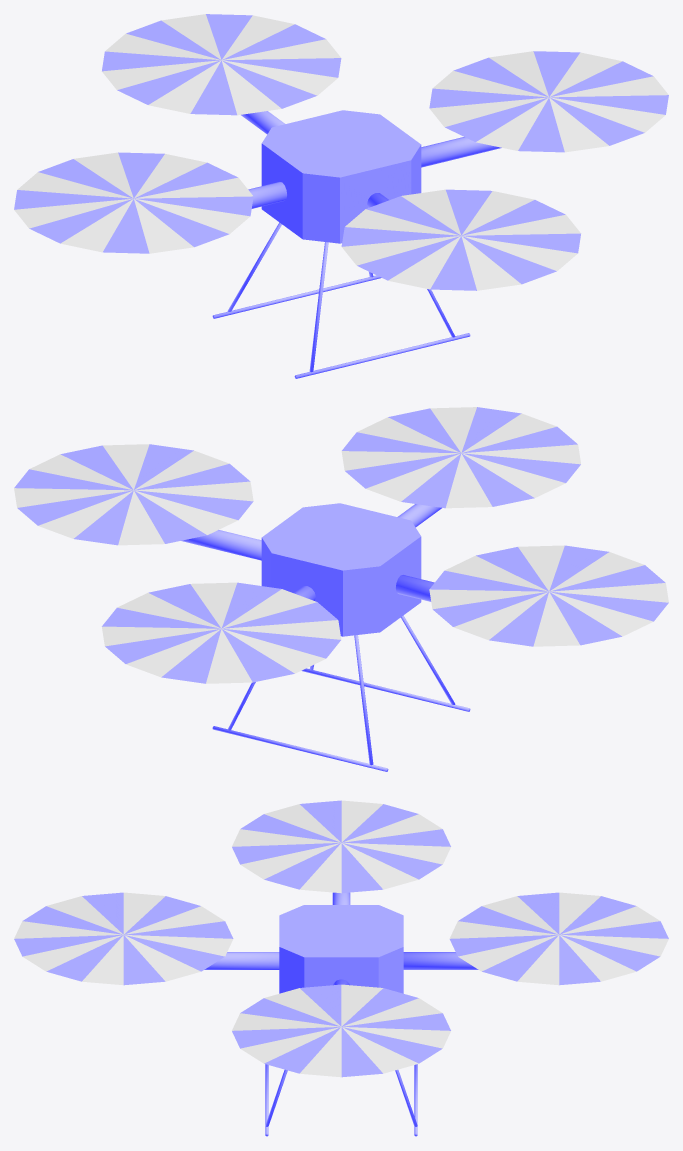
Rendered from quadrotor_base_blue.dae.
3 renders of one model, top to bottom at view 1: azimuth 30°, elevation 25°; view 2: azimuth 150°, elevation 25°; view 3: azimuth 270°, elevation 25°, orthographic. The views are drawn at different scales.
Parts seen in each view (by area): view 1: MainBody_002; view 2: MainBody_002; view 3: MainBody_002.
Part boxes in pixels (box(x1,y1,x2,y2)): MainBody_002: box(14, 14, 668, 378); MainBody_002: box(14, 407, 668, 771); MainBody_002: box(14, 800, 668, 1136).
Size of the model in its own units: 0.7911 by 0.7911 by 0.2225.
